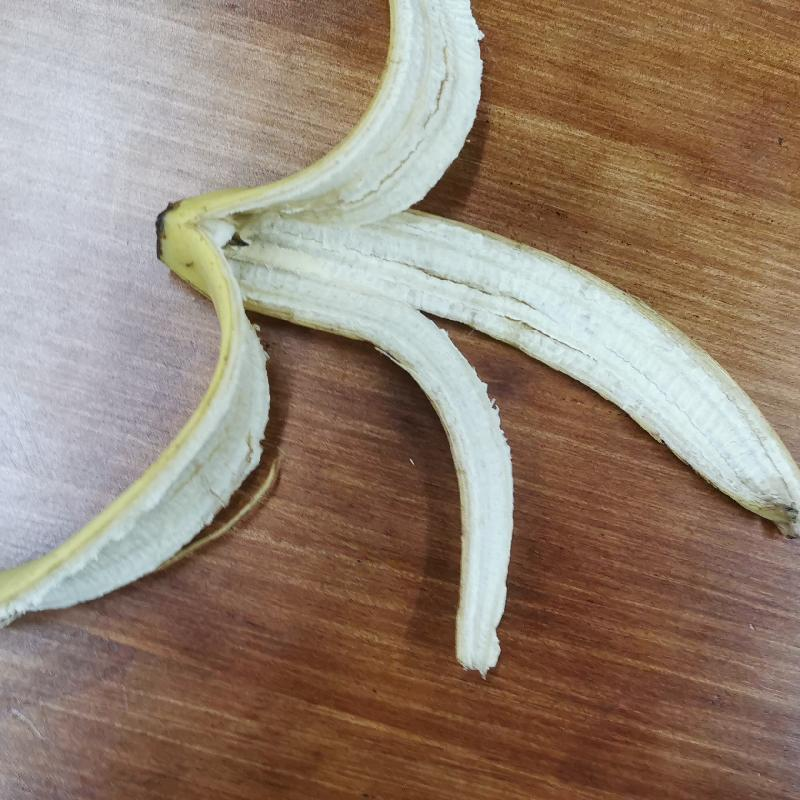bananas: (0, 1, 799, 673)
